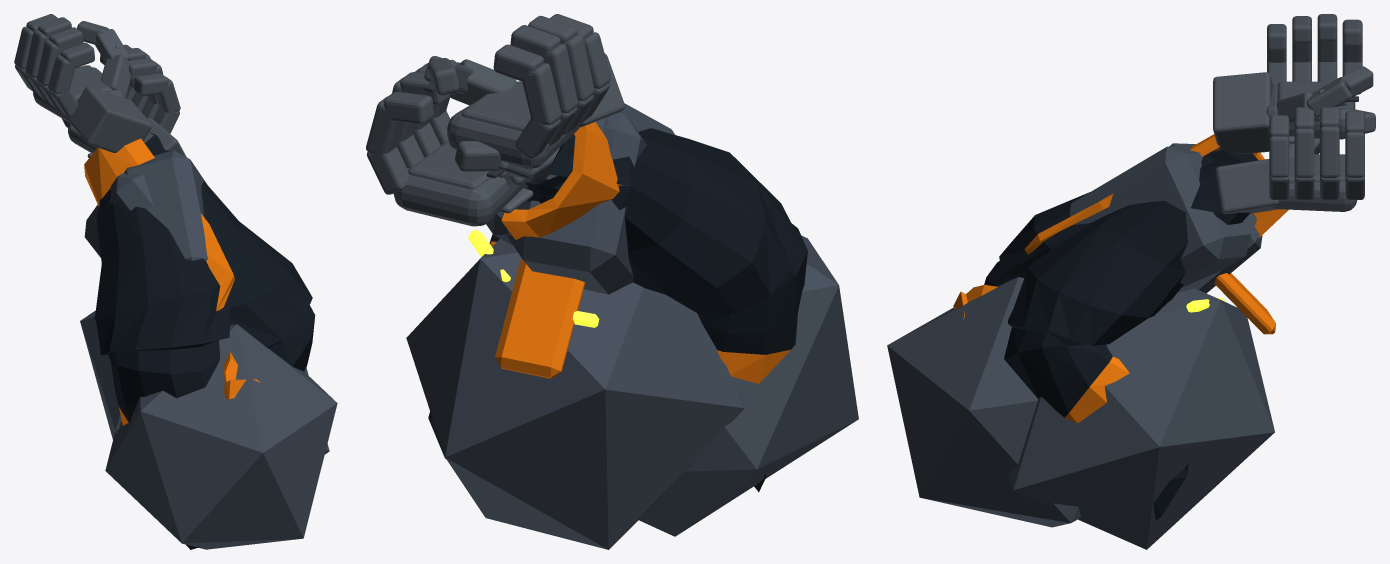
Rendered from ev-view-arms.glb.
3 views of the same model, side by side, from view 1: azimuth 30°, elevation 25°; view 2: azimuth 150°, elevation 25°; view 3: azimuth 270°, elevation 25° (orthographic). The views are drawn at different scales.
Visible parts, largest first — view 1: KYX_ViewLeft_UpperSleeve.002, KYX_ViewLeft_UpperSleeve, KYX_ViewRight_Hand, KYX_ViewRight_UpperSleeve, KYX_ViewLeft_Hand, KYX_ViewRight_UpperSleeve.002, KYX_ViewRight_UpperSleeve.001, KYX_ViewLeft_UpperSleeve.001; view 2: KYX_ViewRight_UpperSleeve.002, KYX_ViewLeft_UpperSleeve, KYX_ViewLeft_UpperSleeve.002, KYX_ViewRight_Hand, KYX_ViewLeft_Hand, KYX_ViewRight_UpperSleeve.001, KYX_ViewLeft_UpperSleeve.001, KYX_ViewRight_UpperSleeve; view 3: KYX_ViewRight_UpperSleeve.002, KYX_ViewLeft_UpperSleeve.002, KYX_ViewRight_UpperSleeve, KYX_ViewRight_Hand, KYX_ViewLeft_Hand, KYX_ViewRight_UpperSleeve.001, KYX_ViewLeft_UpperSleeve.
Boxes of the visible parts, bbox=[...] form: KYX_ViewLeft_UpperSleeve.002: bbox=[105, 150, 337, 549]; KYX_ViewLeft_UpperSleeve: bbox=[94, 143, 230, 549]; KYX_ViewRight_Hand: bbox=[14, 14, 151, 152]; KYX_ViewRight_UpperSleeve: bbox=[145, 132, 315, 371]; KYX_ViewLeft_Hand: bbox=[62, 44, 186, 157]; KYX_ViewRight_UpperSleeve.002: bbox=[80, 173, 329, 454]; KYX_ViewRight_UpperSleeve.001: bbox=[84, 138, 234, 310]; KYX_ViewLeft_UpperSleeve.001: bbox=[119, 351, 260, 425]; KYX_ViewRight_UpperSleeve.002: bbox=[406, 112, 744, 549]; KYX_ViewLeft_UpperSleeve: bbox=[534, 128, 807, 492]; KYX_ViewLeft_UpperSleeve.002: bbox=[486, 103, 858, 536]; KYX_ViewRight_Hand: bbox=[424, 14, 624, 168]; KYX_ViewLeft_Hand: bbox=[366, 62, 559, 226]; KYX_ViewRight_UpperSleeve.001: bbox=[490, 121, 621, 378]; KYX_ViewLeft_UpperSleeve.001: bbox=[717, 349, 790, 383]; KYX_ViewRight_UpperSleeve: bbox=[428, 134, 575, 459]; KYX_ViewRight_UpperSleeve.002: bbox=[1009, 143, 1274, 549]; KYX_ViewLeft_UpperSleeve.002: bbox=[887, 144, 1251, 527]; KYX_ViewRight_UpperSleeve: bbox=[1004, 150, 1250, 520]; KYX_ViewRight_Hand: bbox=[1213, 14, 1373, 154]; KYX_ViewLeft_Hand: bbox=[1215, 106, 1375, 214]; KYX_ViewRight_UpperSleeve.001: bbox=[1024, 134, 1288, 423]; KYX_ViewLeft_UpperSleeve: bbox=[984, 149, 1258, 286].
Size of the model in its own units: 0.368 by 0.6922 by 0.6196.
